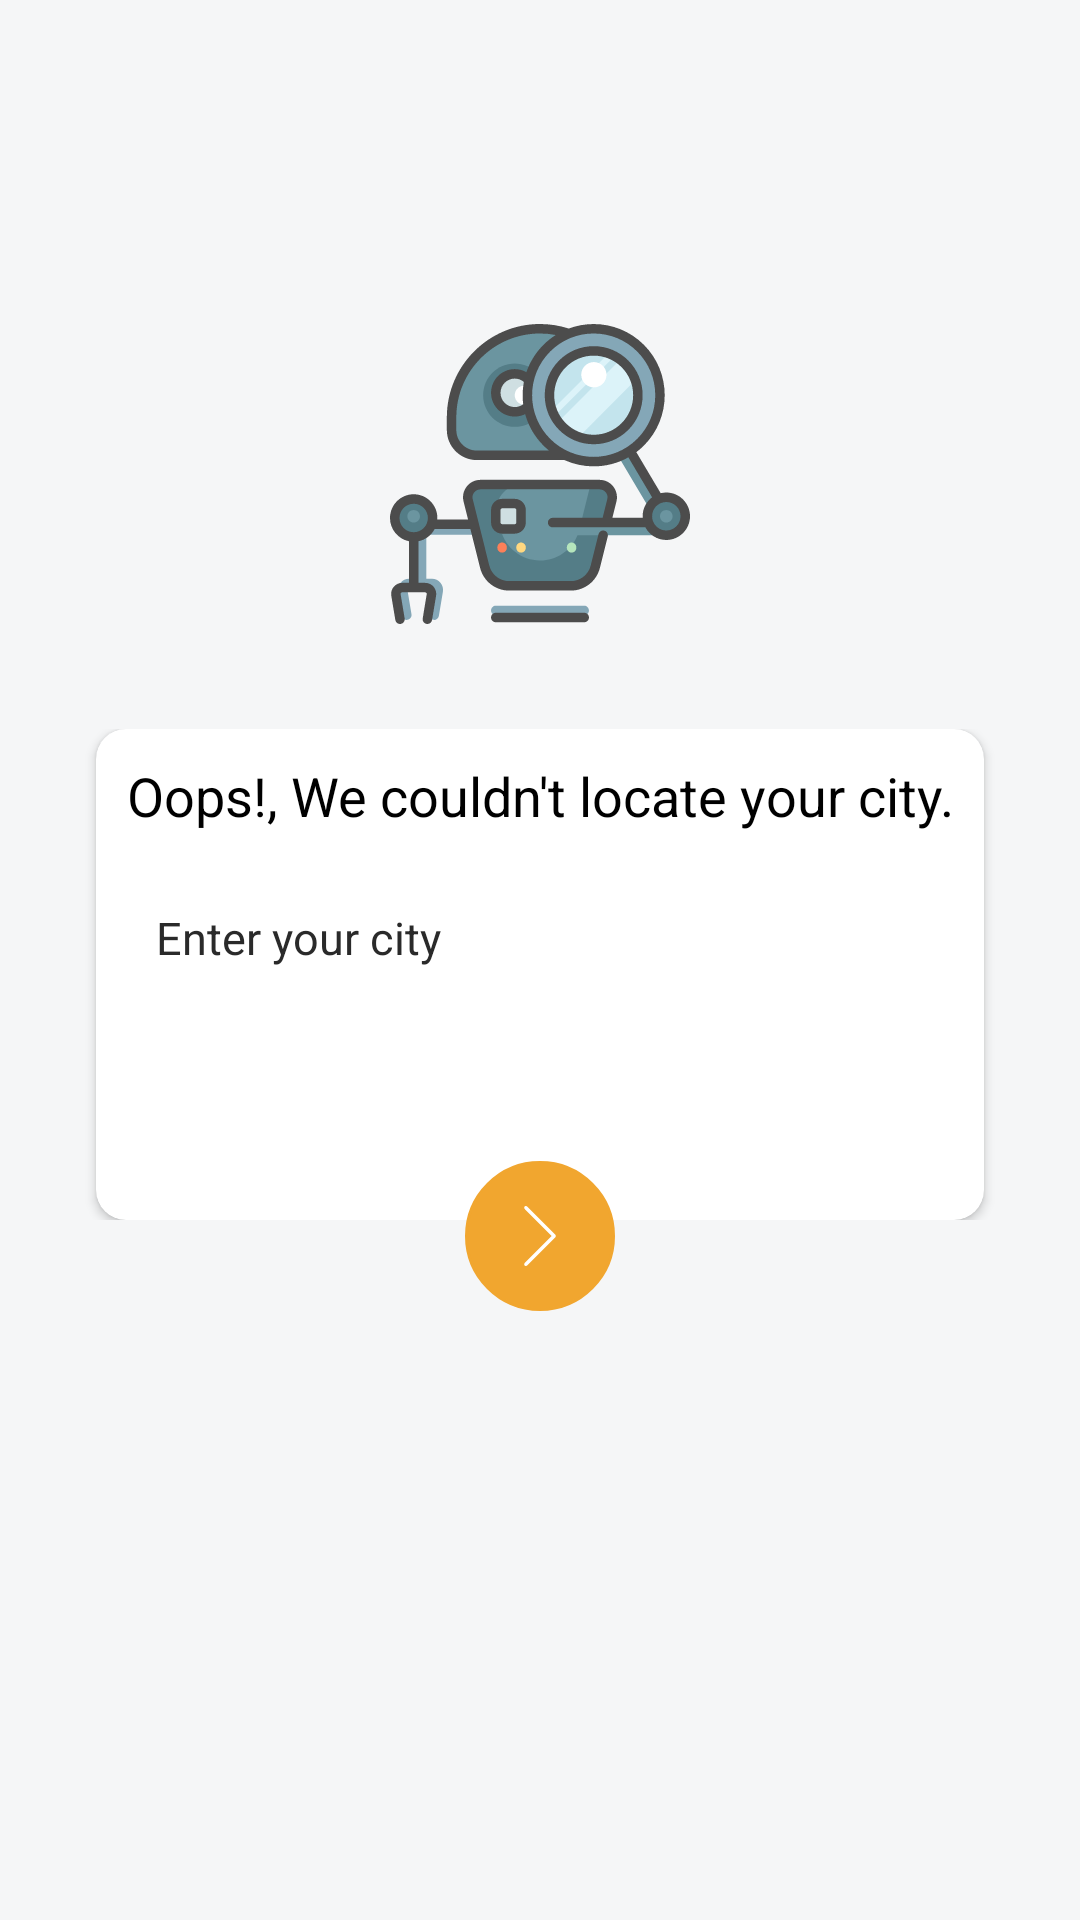

Screen size 1080x1920. Icon name, then its box in pixels as (x1, y1, x2, y2):
arrow: (524, 1206, 556, 1266)
cannot find: (390, 324, 690, 624)
